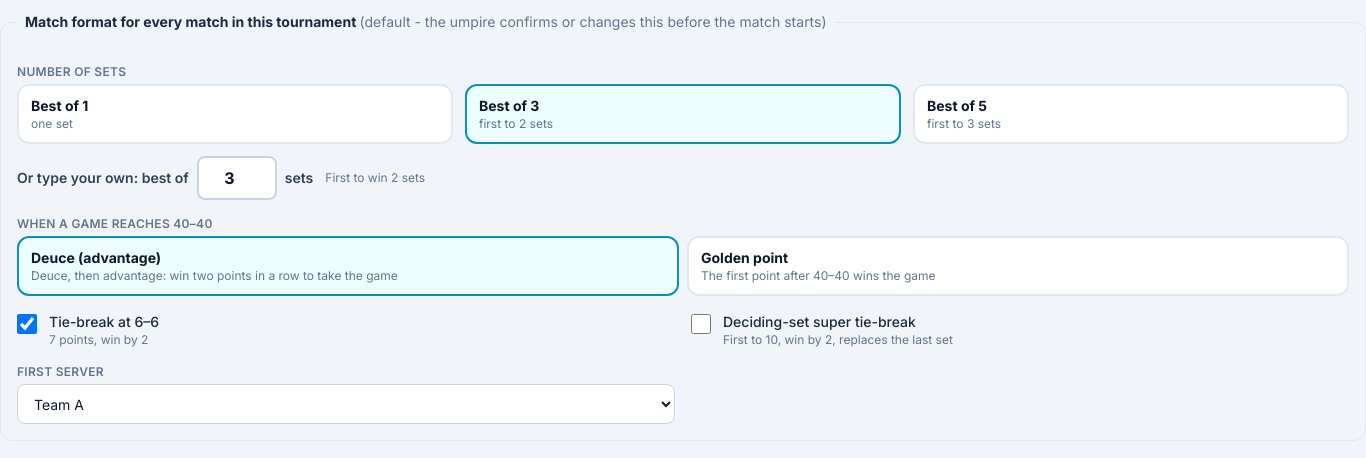
Test: RulesEditor (match and tournament forms) › lets the organiser type any number of sets (match and tournament forms)
The width and height of the screenshot is (1366, 458).
Replace the text in the number field named "custom number of sets" with "8" at (237, 178), box [197,156,277,200]
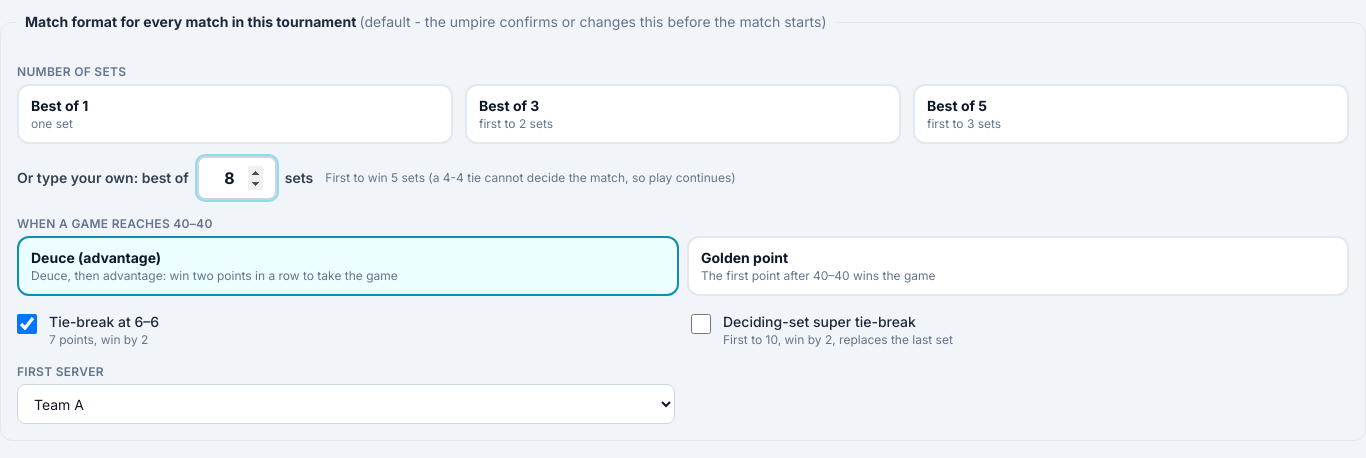
Expected: the text "Deciding-set super tie-break" is shown, [723,313,916,330]
Now the text "First to win 5 sets" is shown, box [325,170,736,185]
